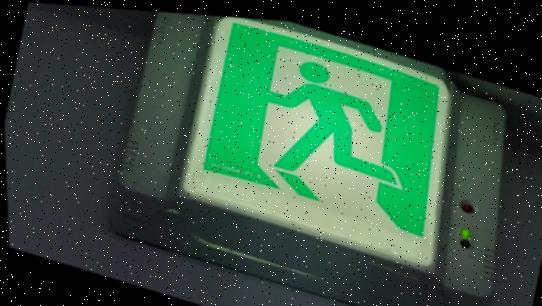emergency_exit: (5, 3, 539, 304), (179, 16, 452, 271)
